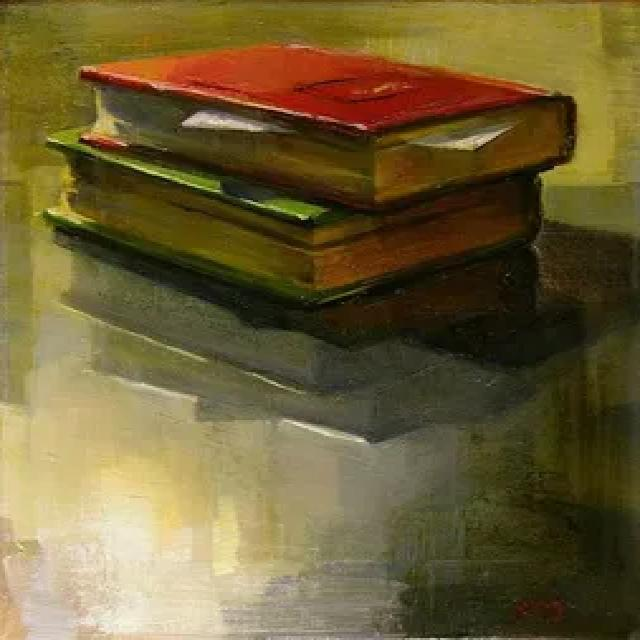book: (65, 31, 590, 206)
